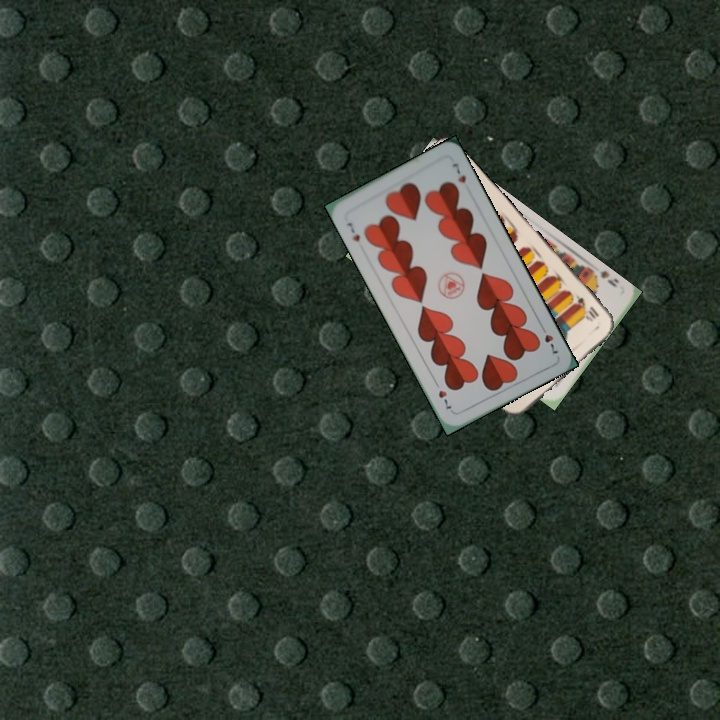E10: (571, 291, 602, 324)
H7: (536, 321, 561, 356), (341, 218, 362, 244)
S9: (586, 266, 621, 291)
